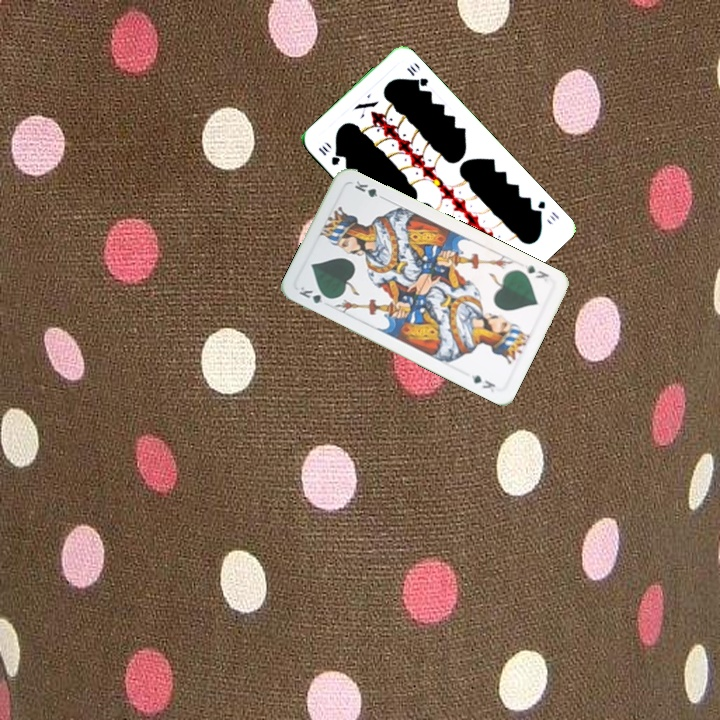G10: (531, 197, 562, 224), (314, 140, 343, 168)
GK: (295, 282, 334, 306), (521, 260, 552, 285)
